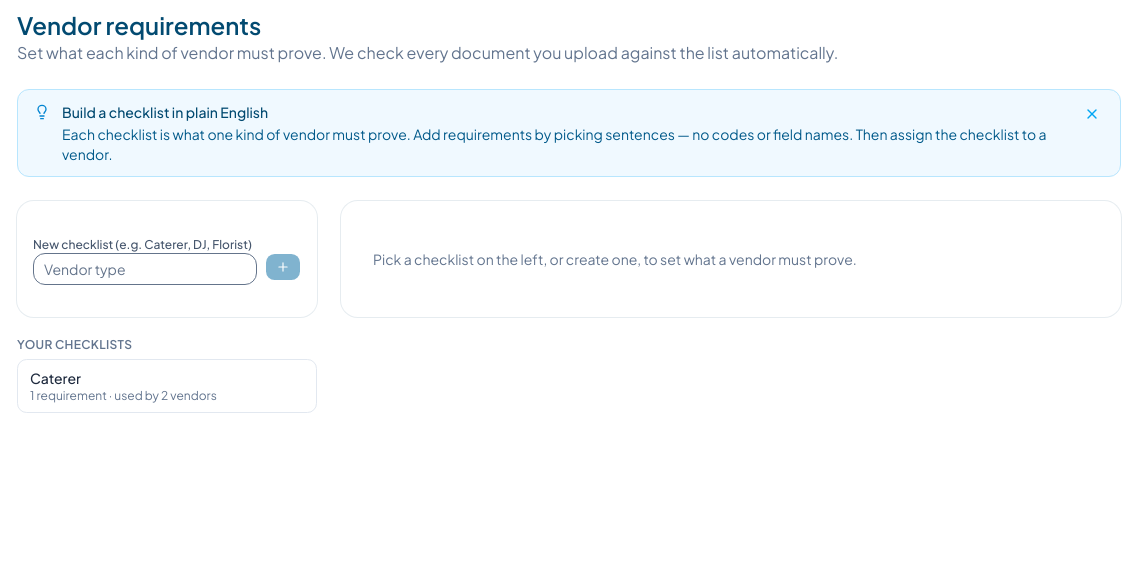
Test case: RulesPage — plain-English authoring (#192) › renders requirements as sentences with no raw machine codes, plus a live summary
The image size is (1139, 588).
Click the button "Caterer 1 requirement · used by 2 vendors". click: [167, 386]
box: [17,359,317,413]
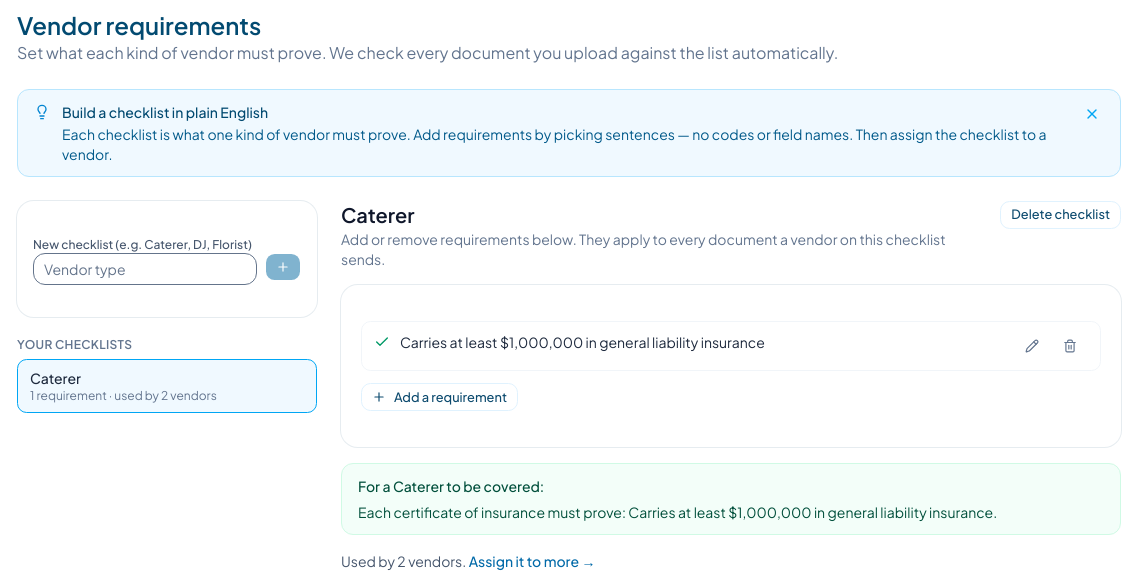
Expected: the text "For a Caterer to be covered:" is shown, [358,477,544,495]
Expected: the list item "Each certificate of insurance must prove" is shown, [358,502,1104,522]
